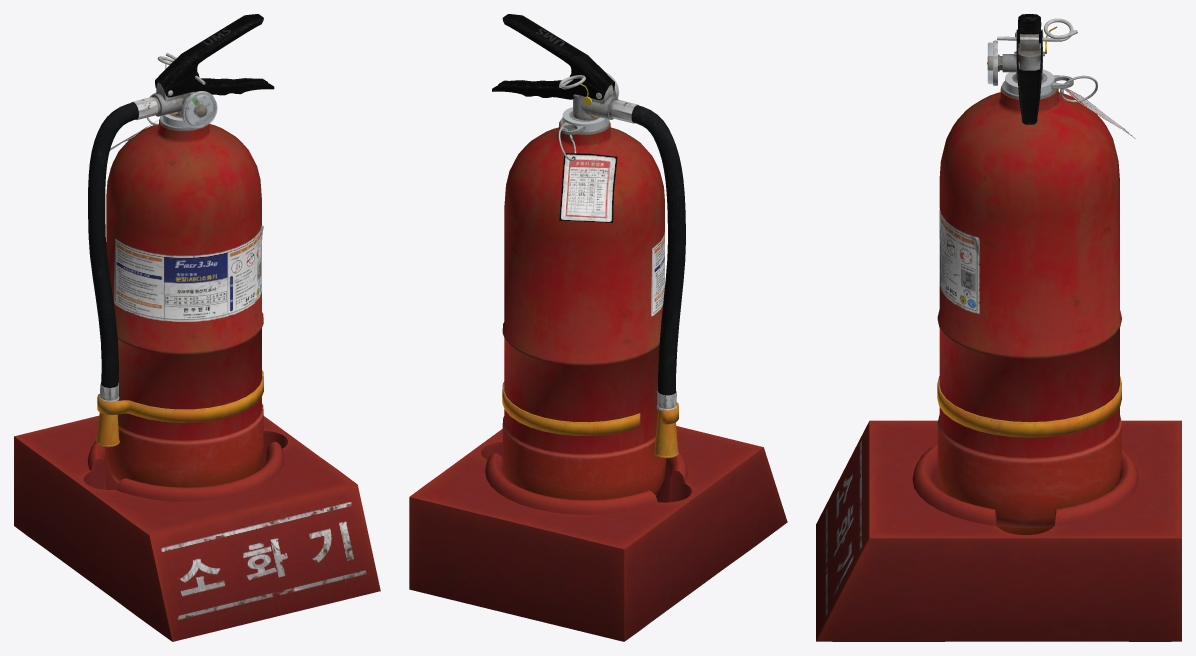
File: fire-extinguisher.glb
The picture shows the model from 3 angles, left to right: view 1: azimuth 30°, elevation 25°; view 2: azimuth 150°, elevation 25°; view 3: azimuth 270°, elevation 25°; orthographic projection. The views are drawn at different scales.
Visible parts, largest first — view 1: stand, cylinder_front, hose, cylinder, squeeze_lever, carry_handle, nozzle, valve_body, gauge; view 2: stand, cylinder, hose, valve_body, cylinder_front, squeeze_lever, carry_handle, nozzle; view 3: stand, cylinder_front, cylinder, valve_body, carry_handle, safety_pin, gauge.
Boxes of the visible parts, box(x1,y1,x2,y2) form: stand: box(14, 415, 380, 641); cylinder_front: box(115, 123, 263, 487); hose: box(88, 97, 160, 387); cylinder: box(105, 118, 225, 483); squeeze_lever: box(155, 14, 263, 95); carry_handle: box(155, 72, 274, 97); nozzle: box(95, 383, 122, 447); valve_body: box(110, 82, 199, 150); gauge: box(181, 91, 217, 128); stand: box(409, 426, 787, 641); cylinder: box(502, 121, 655, 499); hose: box(609, 99, 685, 395); valve_body: box(558, 84, 618, 222); cylinder_front: box(541, 122, 666, 495); squeeze_lever: box(502, 14, 614, 97); carry_handle: box(492, 74, 614, 99); nozzle: box(654, 391, 678, 458); stand: box(816, 420, 1181, 641); cylinder_front: box(937, 86, 1029, 534); cylinder: box(1029, 88, 1121, 534); valve_body: box(1002, 34, 1135, 138); carry_handle: box(1014, 29, 1044, 124); safety_pin: box(997, 18, 1077, 53); gauge: box(987, 40, 1002, 85).
Bounding box in the file's own units: 0.2184 × 0.5142 × 0.2866.
13 materials, 3 textured.
